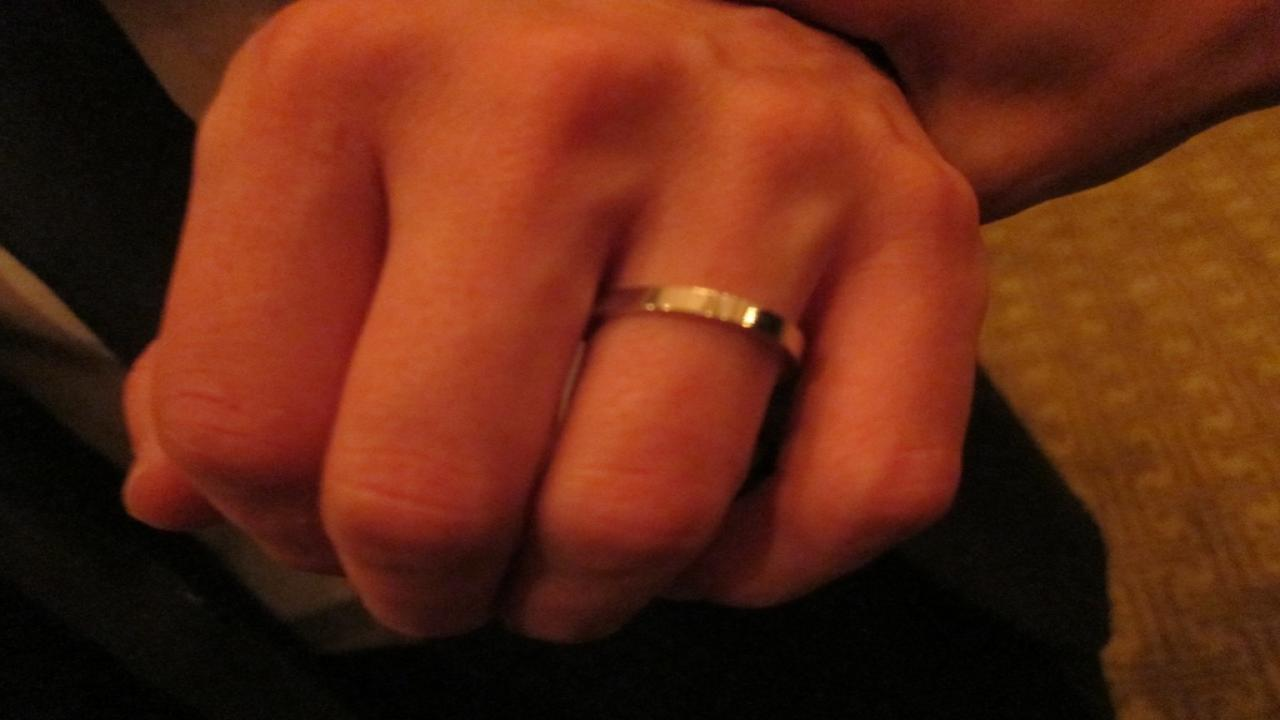ring: (590, 280, 810, 375)
